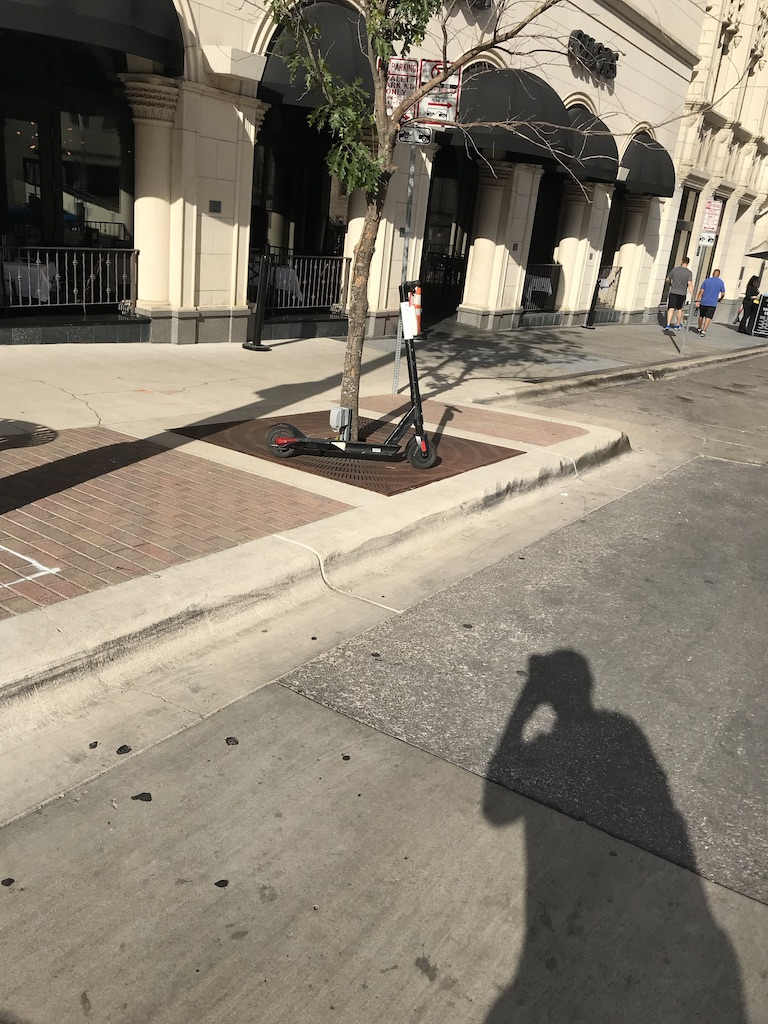scooter: (266, 281, 437, 471)
